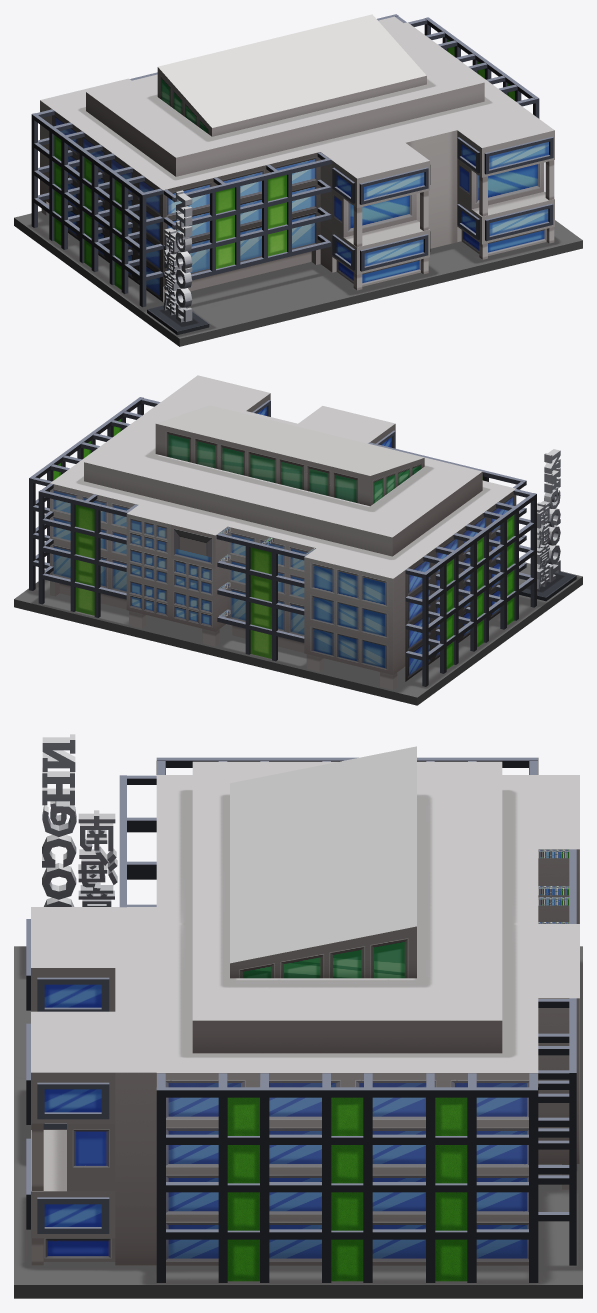
File: nanhaiyiku 1.FBX
3 renders of one model, top to bottom at view 1: azimuth 30°, elevation 25°; view 2: azimuth 150°, elevation 25°; view 3: azimuth 270°, elevation 25°, orthographic. The views are drawn at different scales.
Visible parts, largest first — view 1: nanhaiyiku; view 2: nanhaiyiku; view 3: nanhaiyiku.
Part boxes in pixels (left/top/right/bottom): nanhaiyiku: left=14, top=14, right=582, bottom=346; nanhaiyiku: left=14, top=375, right=582, bottom=705; nanhaiyiku: left=14, top=734, right=582, bottom=1298.
Bounding box in the file's own units: 2211 × 896 × 1572.
